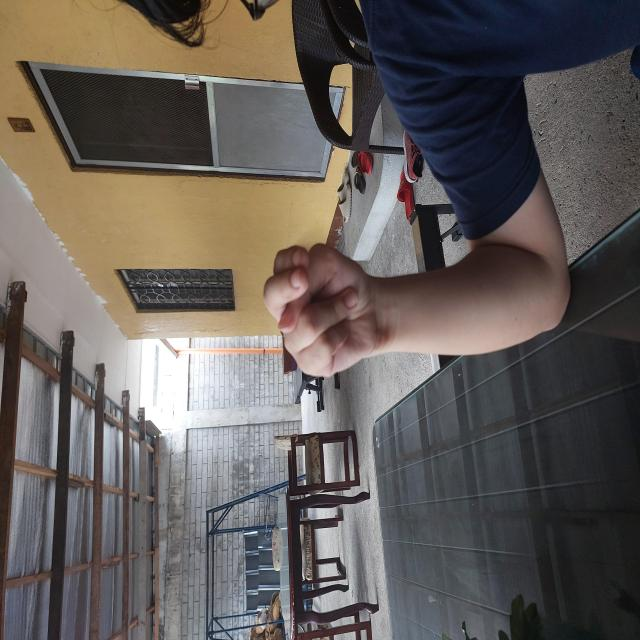N_TILDE: (226, 197, 421, 417)
